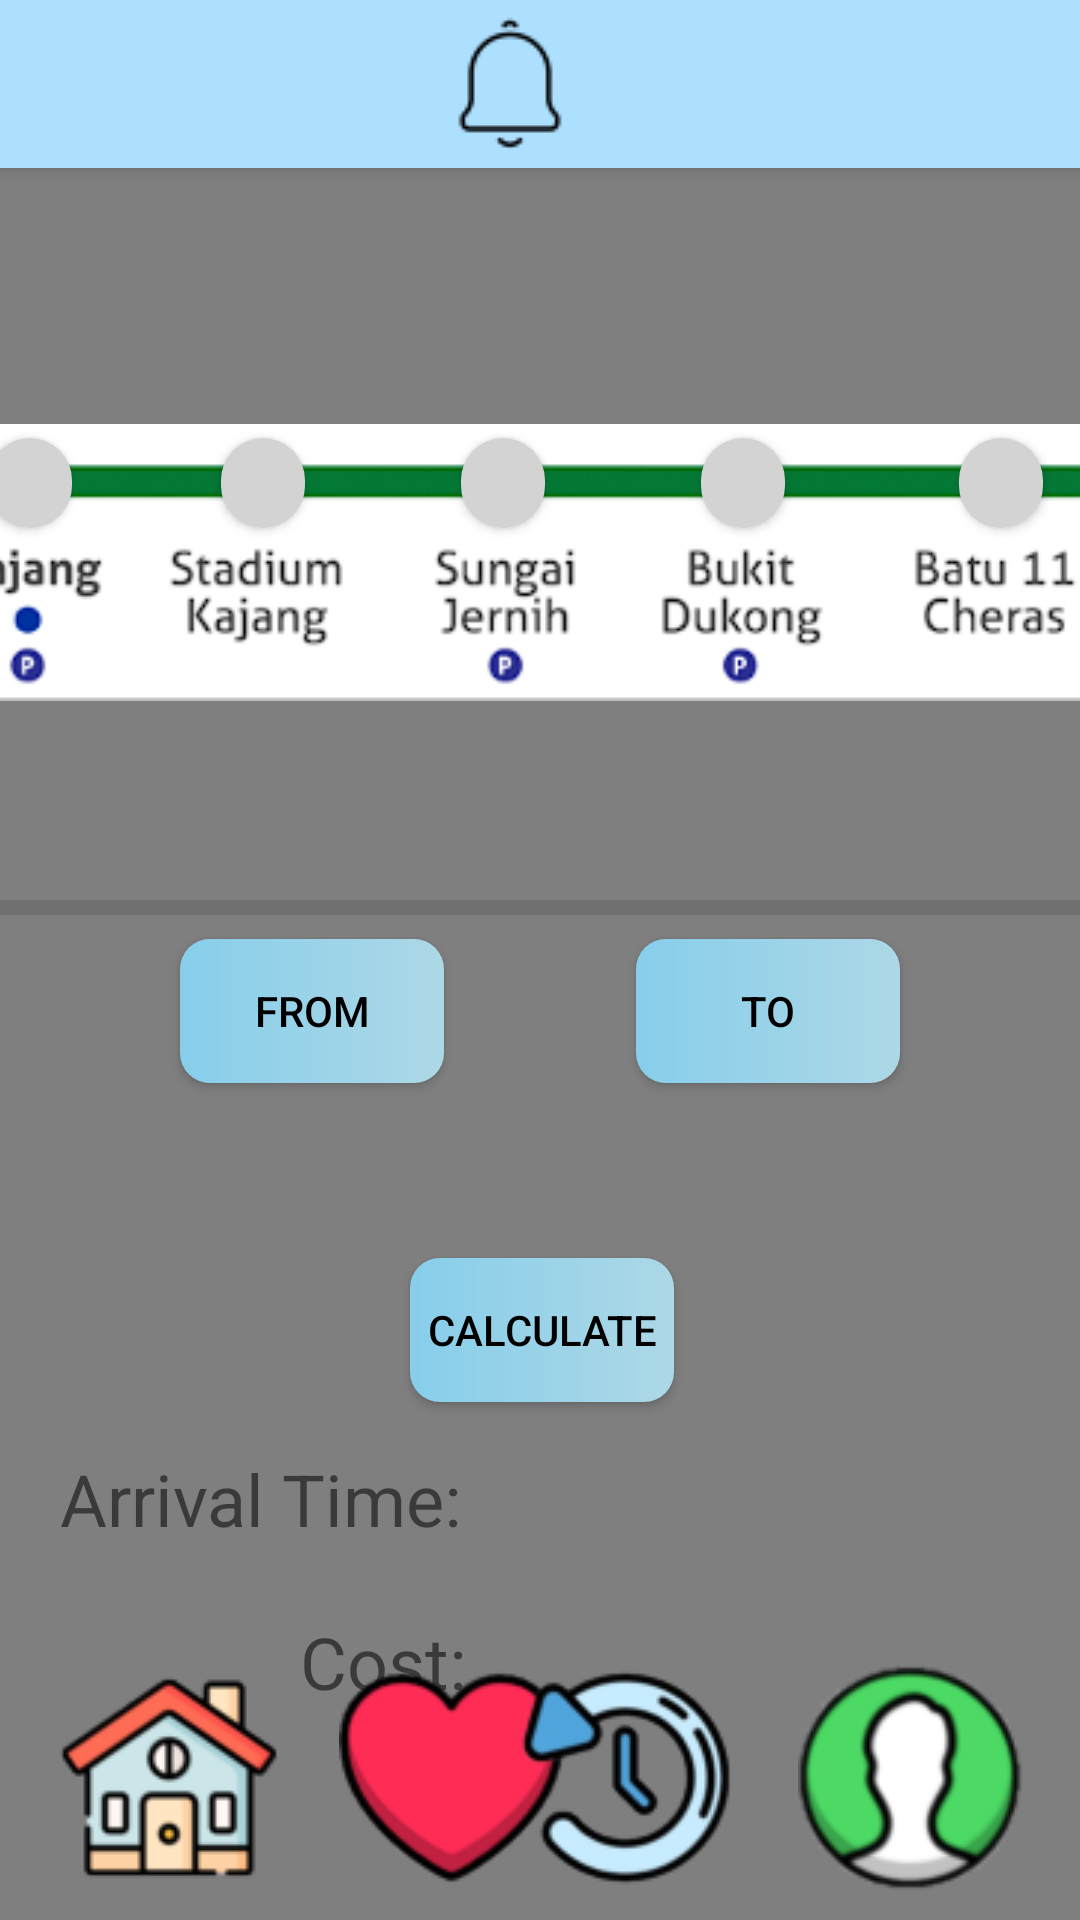

Where icons sit on this 1080x1920 app screen, as region(x1, y1, x2, y2):
heart: region(339, 1665, 564, 1882)
history: region(516, 1673, 730, 1882)
home: region(62, 1679, 277, 1876)
notification: region(458, 18, 562, 148)
profile: region(798, 1667, 1021, 1888)
